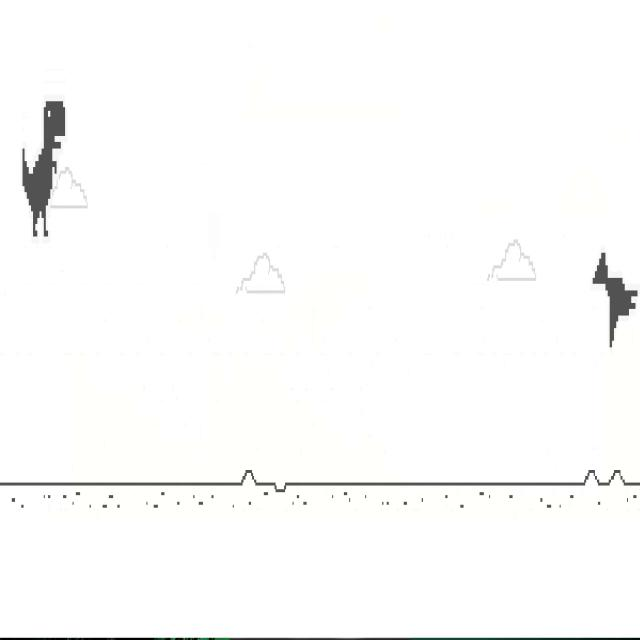dino: (23, 101, 66, 237)
ptero: (592, 250, 638, 350)
